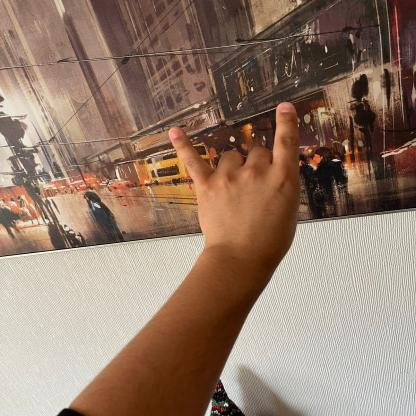U: (165, 97, 313, 266)
